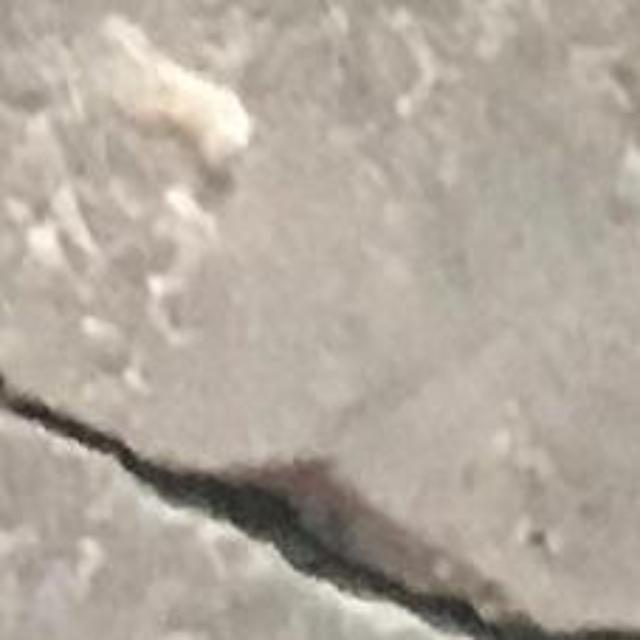crack: (0, 370, 639, 639)
peeling plaster: (102, 15, 253, 169)
